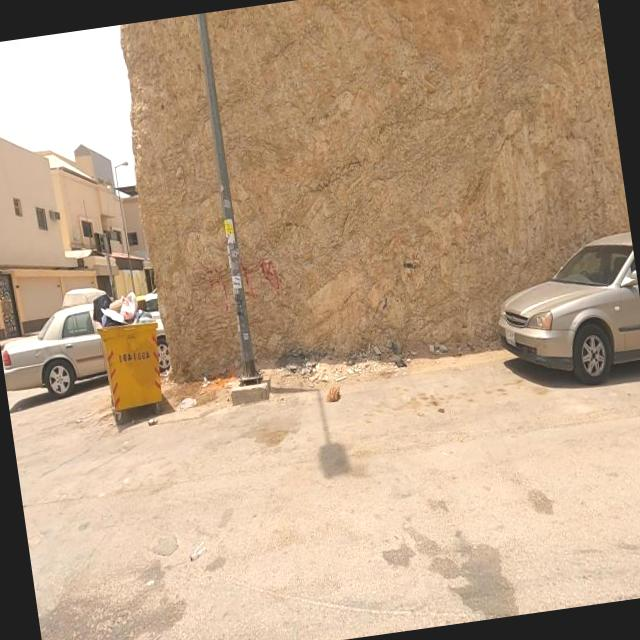debris: (156, 206, 331, 359), (48, 231, 206, 391), (324, 302, 452, 404), (268, 319, 358, 402), (164, 513, 240, 587), (172, 339, 240, 417), (306, 359, 368, 429), (128, 389, 184, 454)
